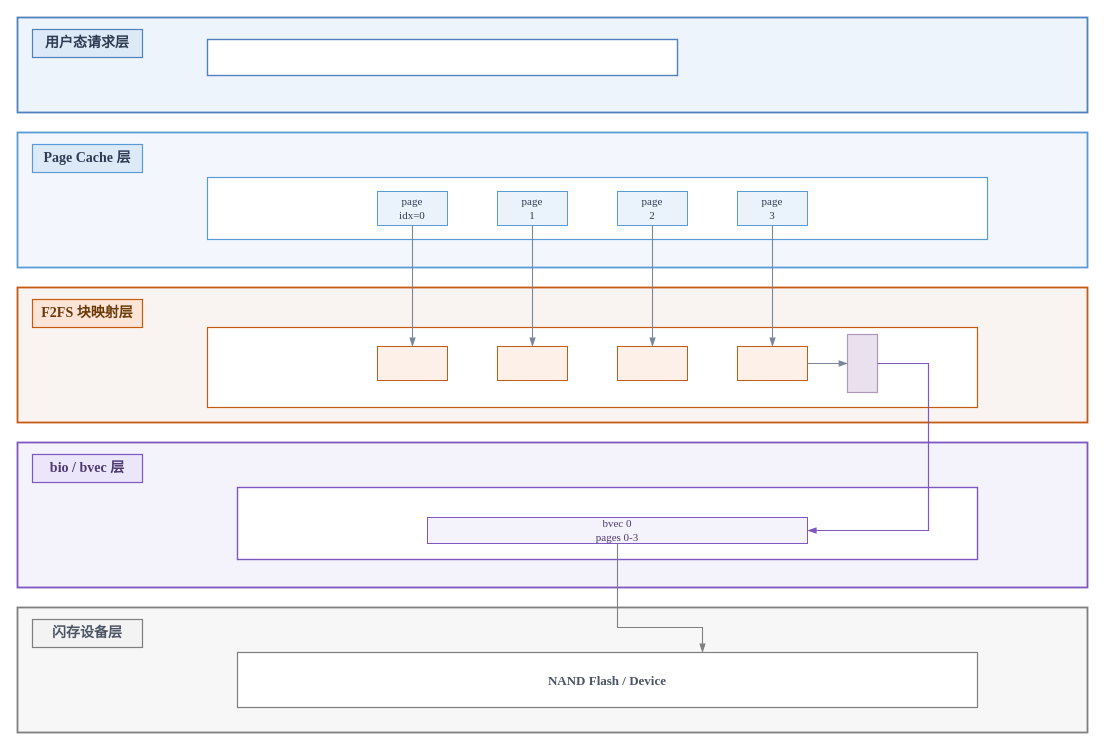
The diagram is 1106 pixels wide and 751 high, and some of its shapes have lost their labels. Here are the shapes that lost their labels. From the top down, the centre of each, then its label:
(442,57): read(fd, buf, offset = 0, length = 16KB)
(412,363): block 0
(532,363): block 1
(652,363): block 2
(772,363): block 3
(862,363): 连续物理 块地址
